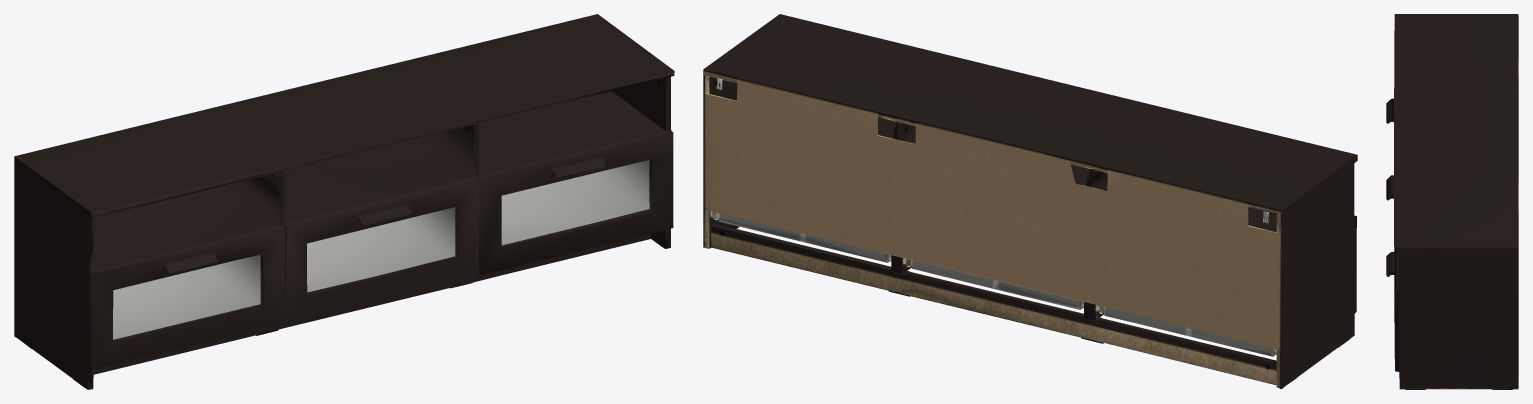
The model's file is storage-12.glb.
3 views of the same model, side by side, from view 1: azimuth 30°, elevation 25°; view 2: azimuth 150°, elevation 25°; view 3: azimuth 270°, elevation 25° (orthographic). The views are drawn at different scales.
Visible parts, largest first — view 1: ProcessedMeshNode; view 2: ProcessedMeshNode; view 3: ProcessedMeshNode.
Part boxes in pixels (bbox=[...]): ProcessedMeshNode: bbox=[14, 14, 674, 389]; ProcessedMeshNode: bbox=[703, 14, 1357, 388]; ProcessedMeshNode: bbox=[1386, 14, 1518, 389].
Size of the model in its own units: 1.8 by 0.5359 by 0.439.
Materials: 2 (2 with a texture image).
